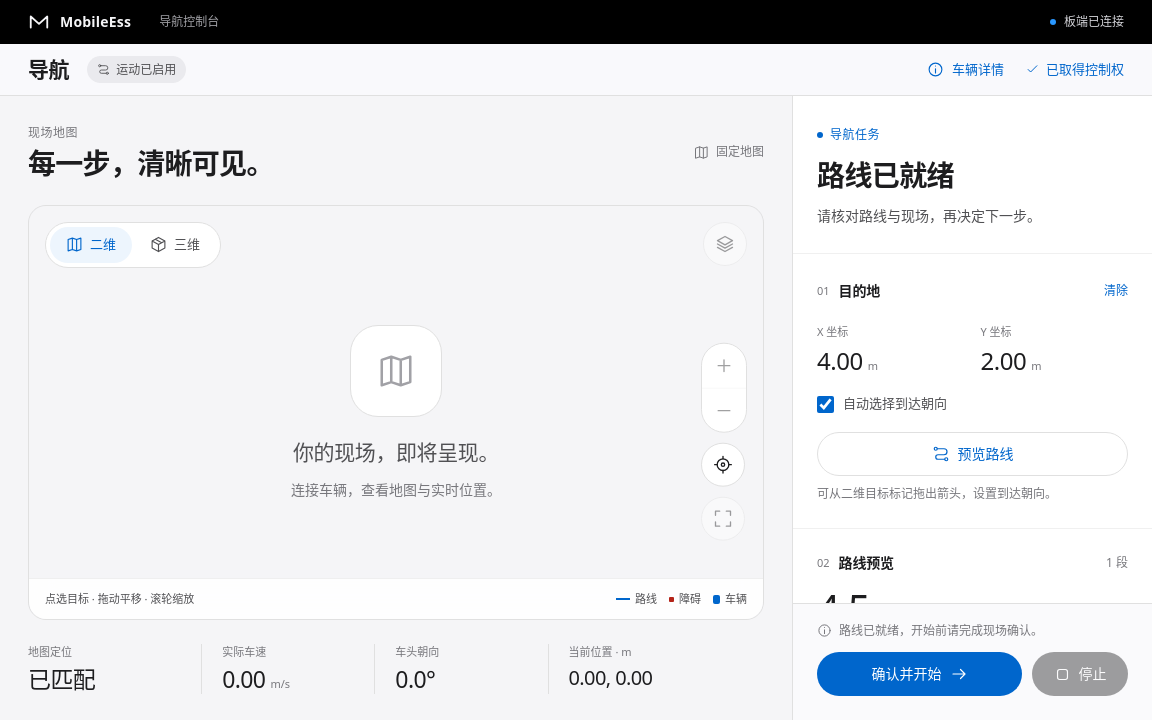
Test: disconnect invalidates an open start confirmation
The width and height of the screenshot is (1152, 720).
Click the button "确认并开始" at (920, 674), box x1=817 y1=652 x2=1022 y2=696
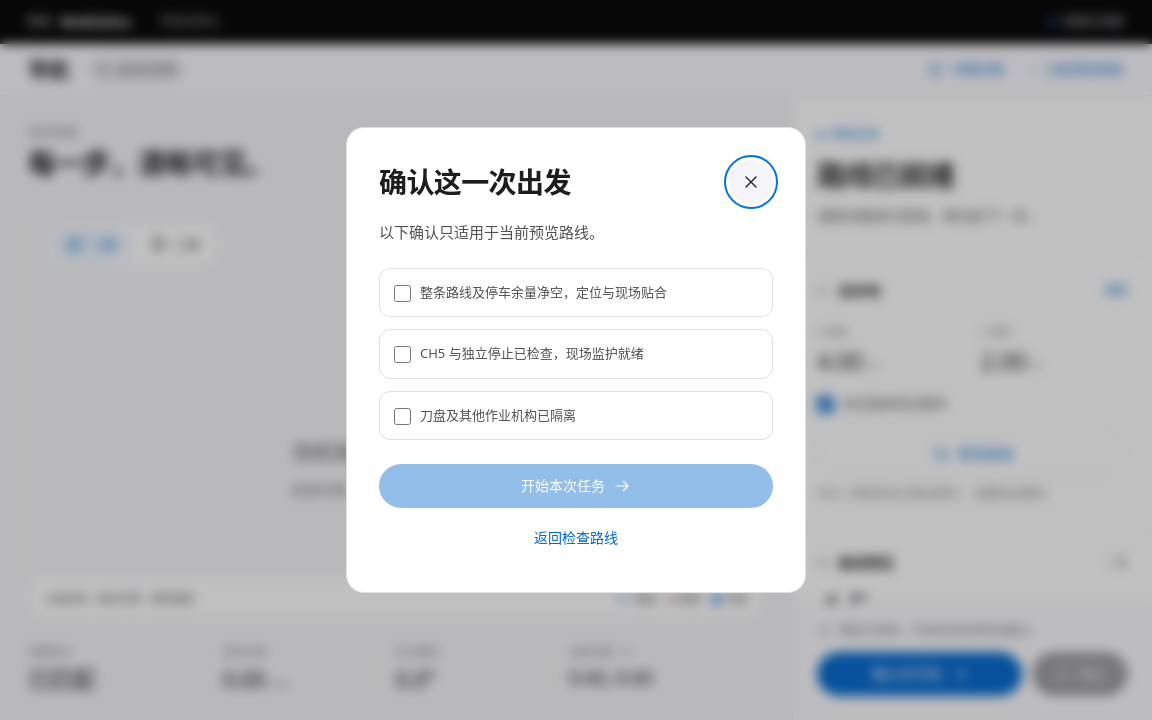
Check: the dialog is shown, box x1=346 y1=127 x2=806 y2=593
